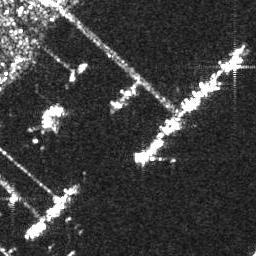ship: (224, 56, 244, 74), (30, 224, 48, 239), (108, 98, 124, 109), (76, 60, 88, 74), (120, 88, 139, 96), (68, 67, 77, 83)
